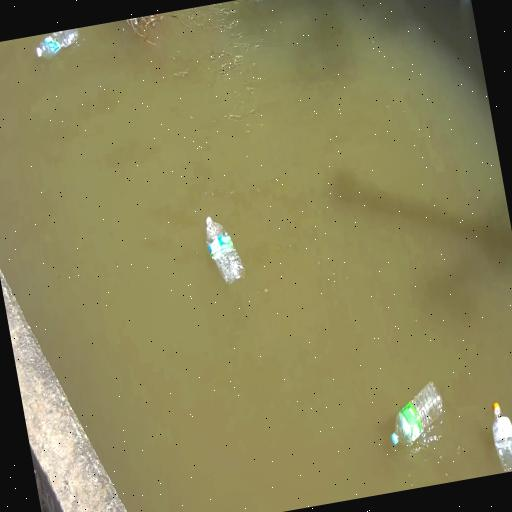plastic: (391, 382, 442, 446), (205, 217, 244, 284), (492, 403, 511, 472), (35, 29, 77, 58)
